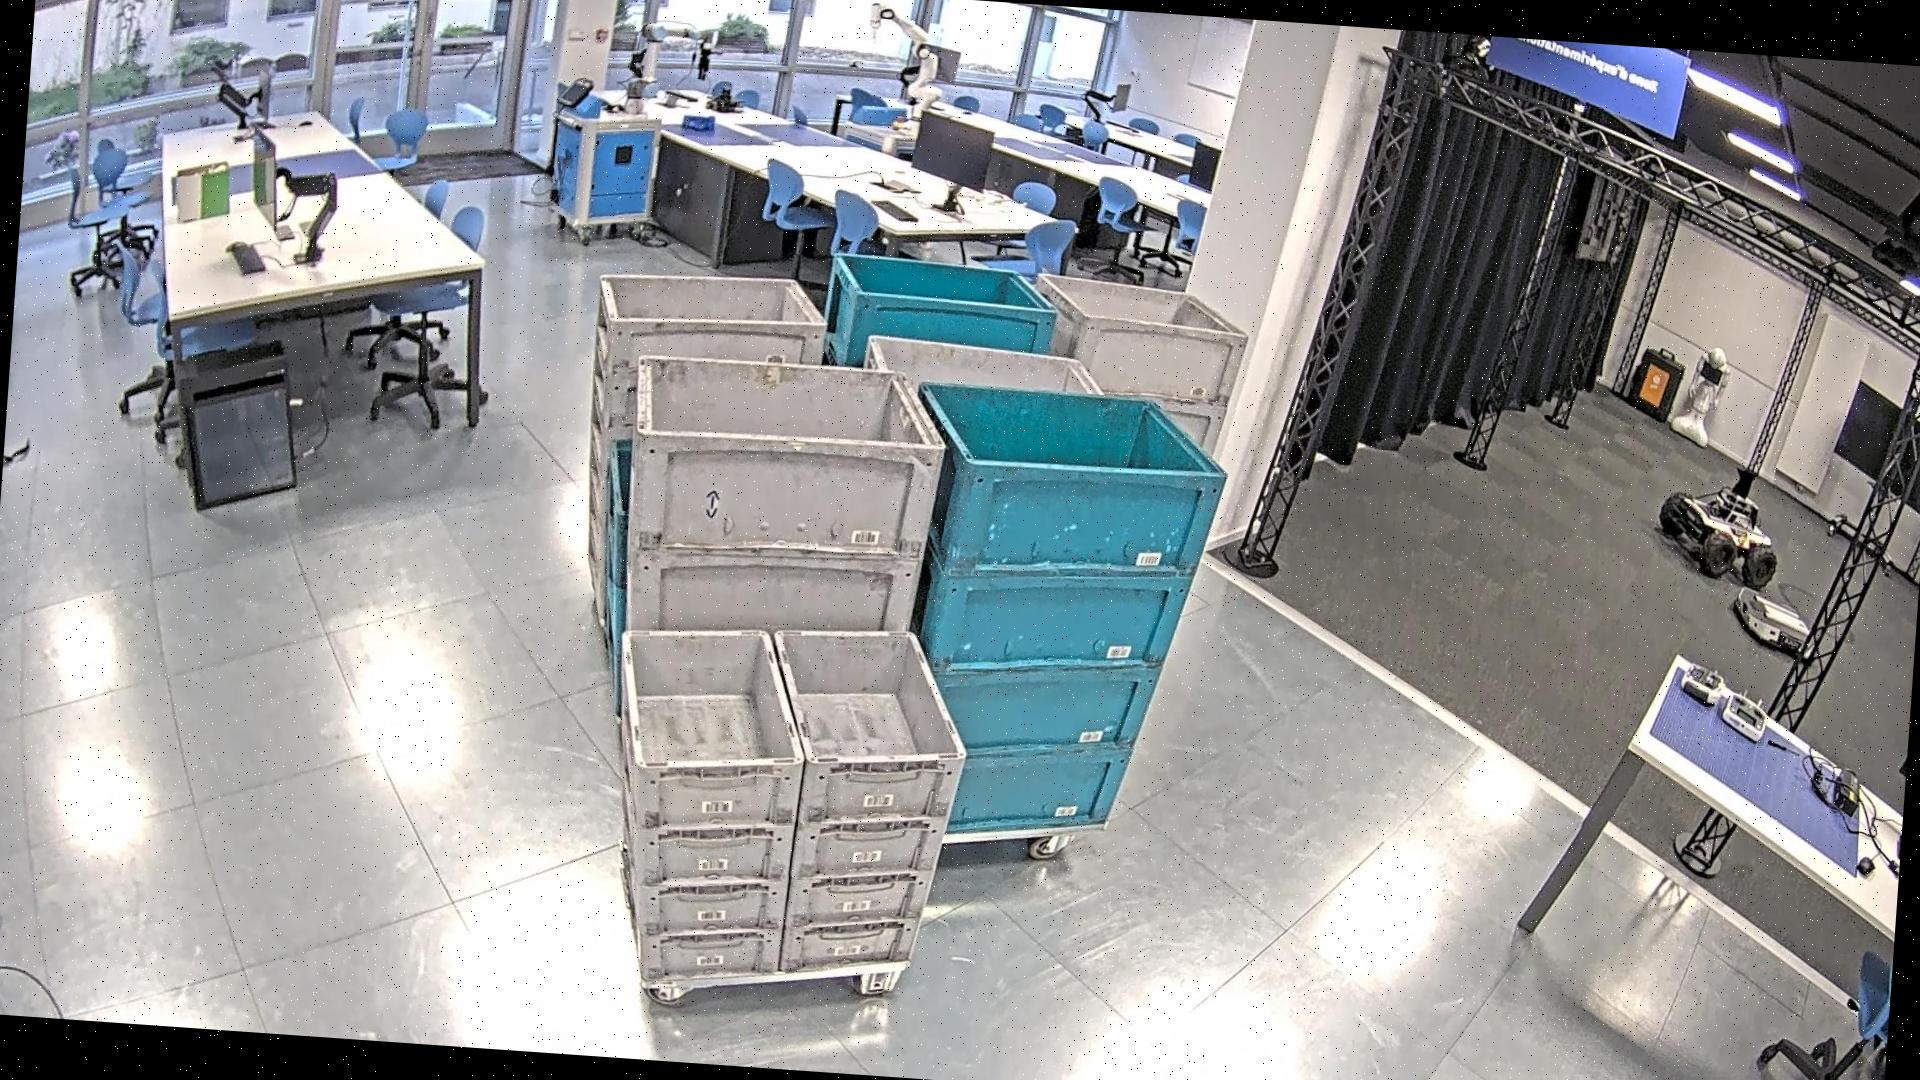Box3G: (833, 331, 1127, 752), (567, 262, 836, 654)
Box4G: (601, 347, 953, 837), (986, 265, 1257, 644)
Box8G: (592, 607, 980, 1014)
BoxB4: (847, 378, 1238, 866), (799, 248, 1063, 628)
